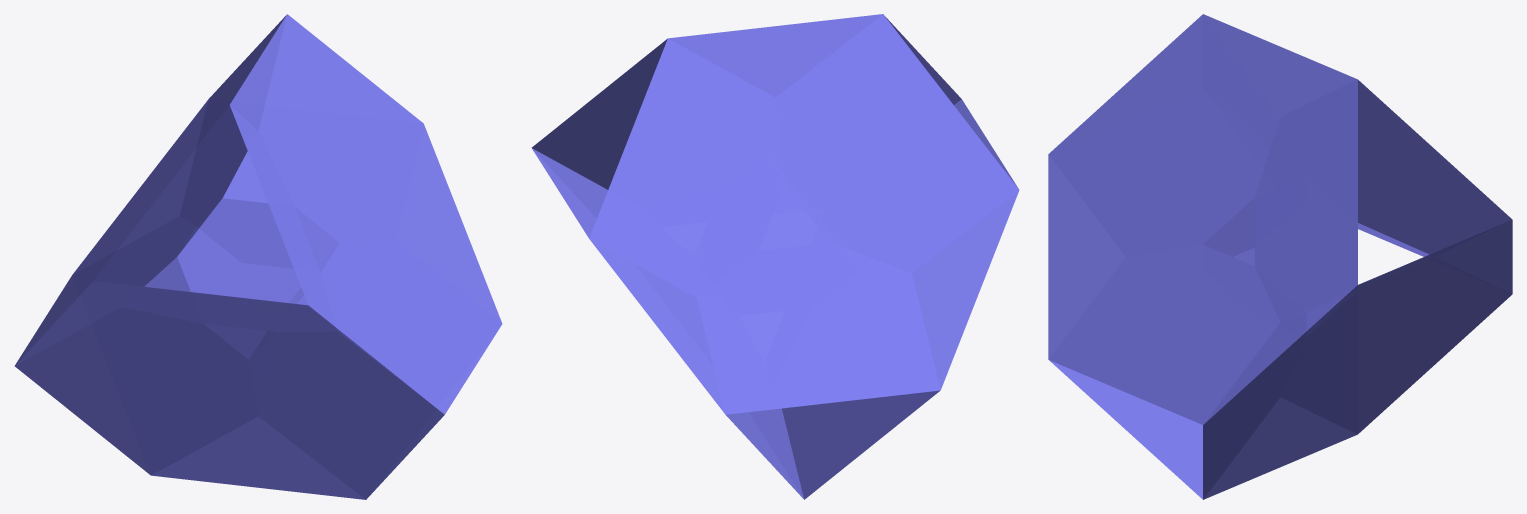
File: RegularMap.obj
3 views of the same model, side by side, from view 1: azimuth 30°, elevation 25°; view 2: azimuth 150°, elevation 25°; view 3: azimuth 270°, elevation 25° (orthographic).
Bounding box in the file's own units: 18 × 18 × 18.
